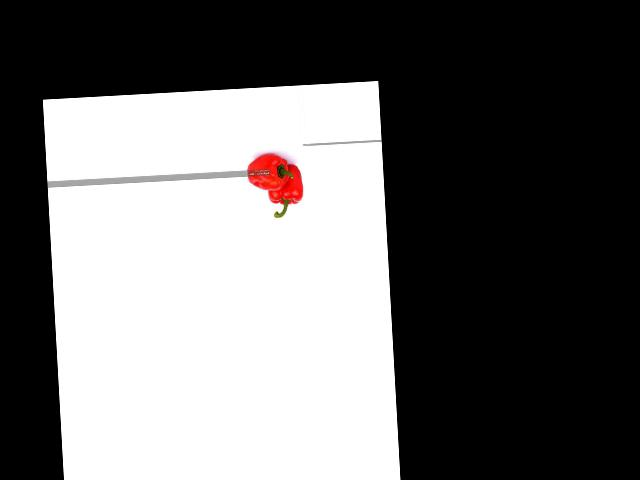bell_pepper: (241, 153, 293, 195)
